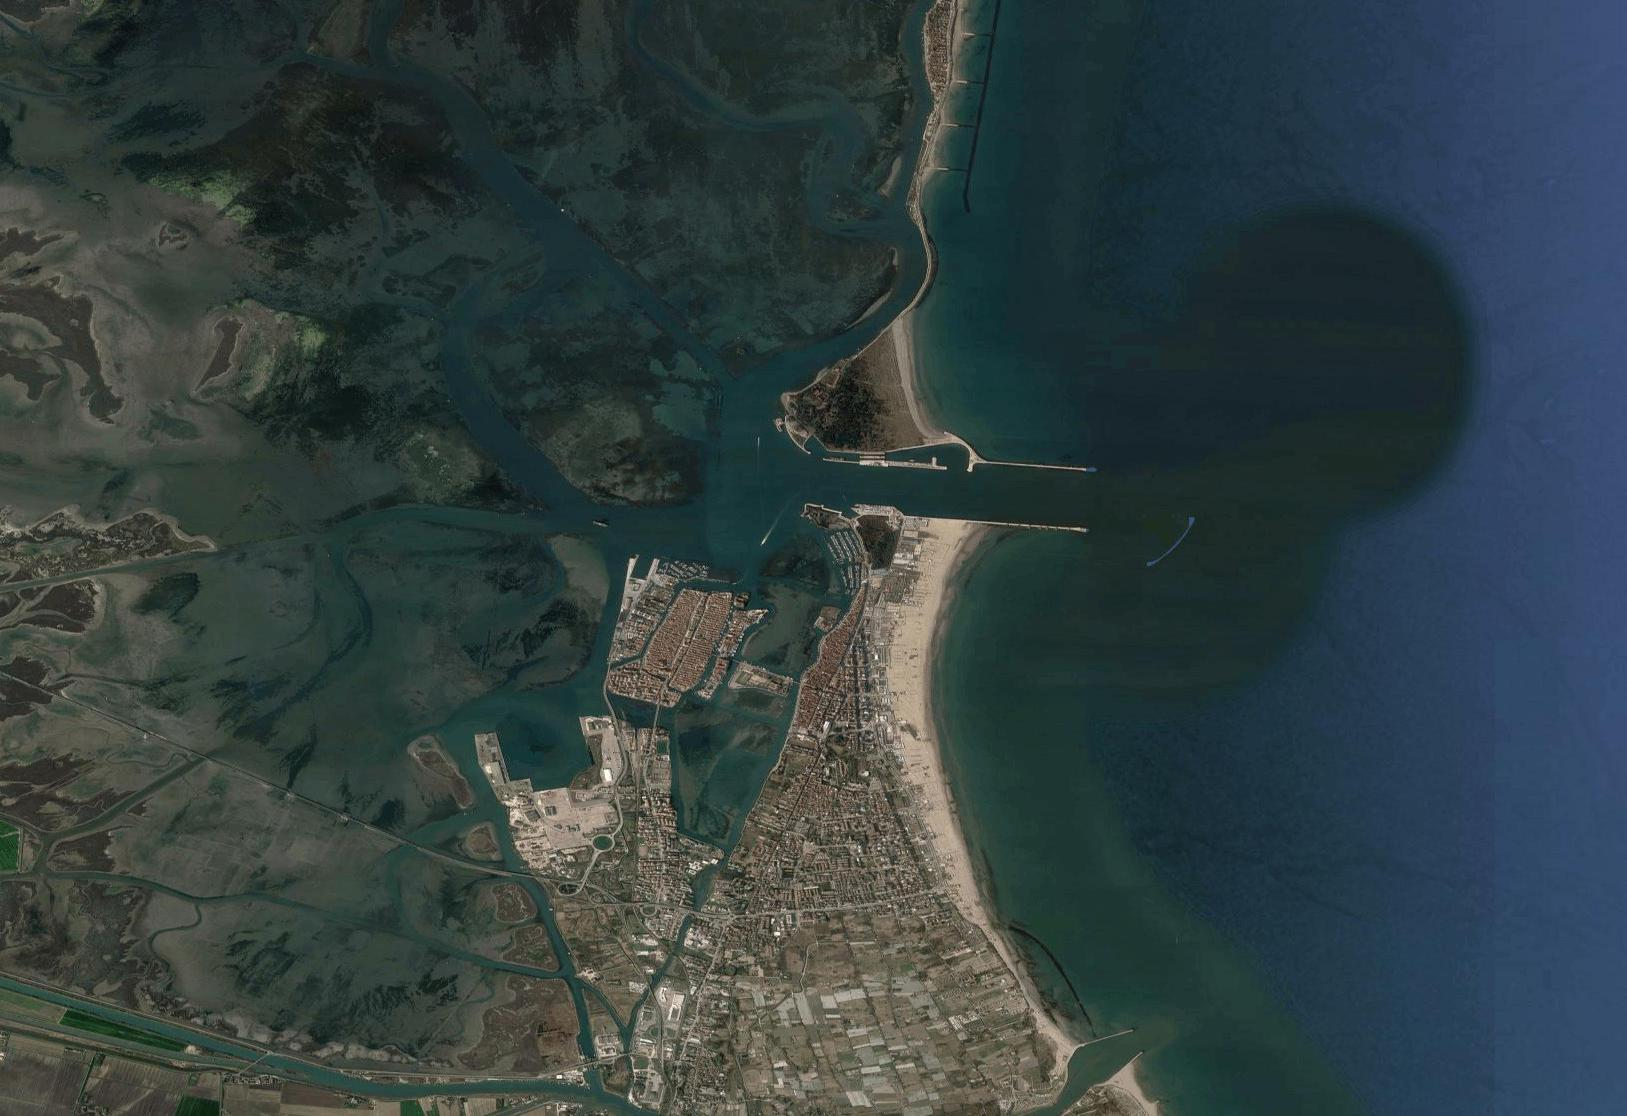bridge: (507, 869, 542, 884), (600, 682, 614, 716), (649, 704, 660, 734)
harbor: (797, 499, 867, 604), (616, 550, 729, 598)
